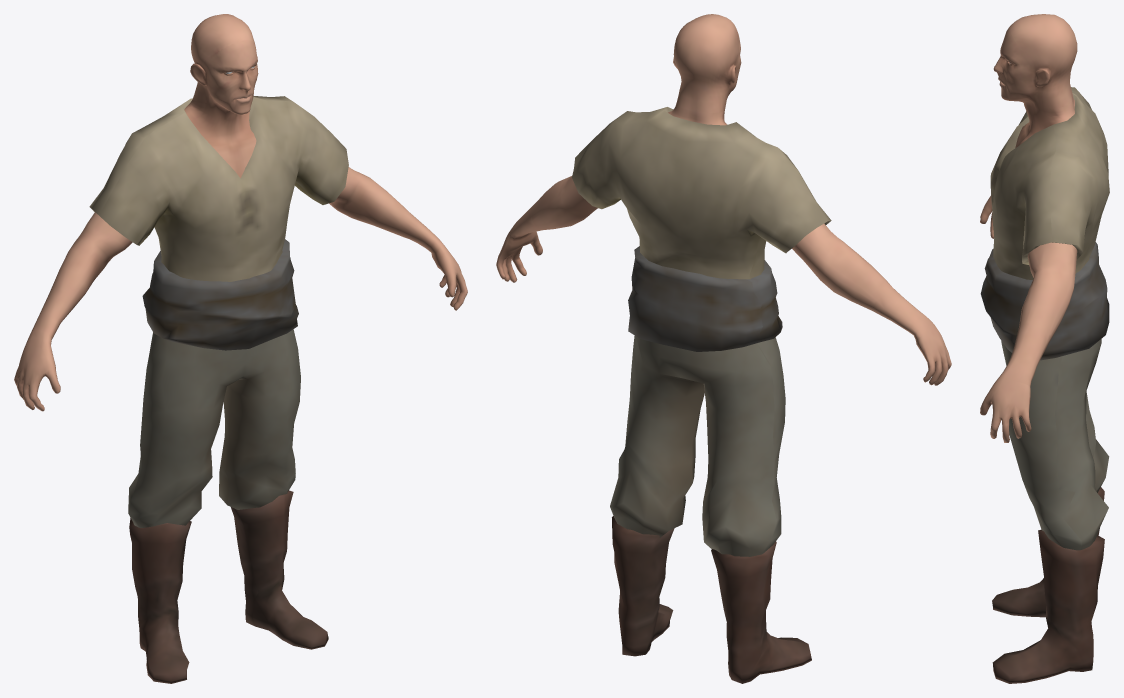
File: Man.obj
3 views of the same model, side by side, from view 1: azimuth 30°, elevation 25°; view 2: azimuth 150°, elevation 25°; view 3: azimuth 270°, elevation 25° (orthographic).
Parts seen in each view (by area): view 1: BasicBandit_Clothes, BasicBandit_Body; view 2: BasicBandit_Clothes, BasicBandit_Body; view 3: BasicBandit_Clothes, BasicBandit_Body.
Boxes of the visible parts, left/top/right/bottom form: BasicBandit_Clothes: left=89, top=96, right=348, bottom=683; BasicBandit_Body: left=14, top=14, right=467, bottom=411; BasicBandit_Clothes: left=572, top=107, right=831, bottom=683; BasicBandit_Body: left=496, top=14, right=951, bottom=385; BasicBandit_Clothes: left=980, top=87, right=1109, bottom=683; BasicBandit_Body: left=980, top=14, right=1077, bottom=442.
Bounding box in the file's own units: 135 × 185 × 34.76.
